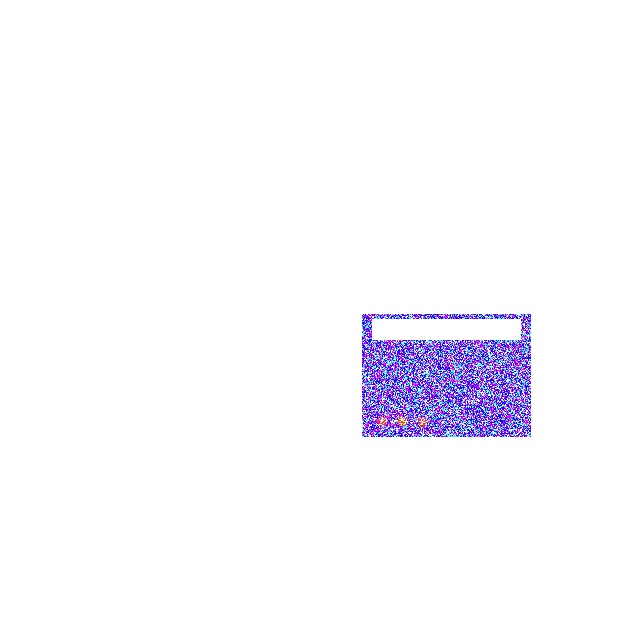Imprimante: (362, 314, 530, 437)
